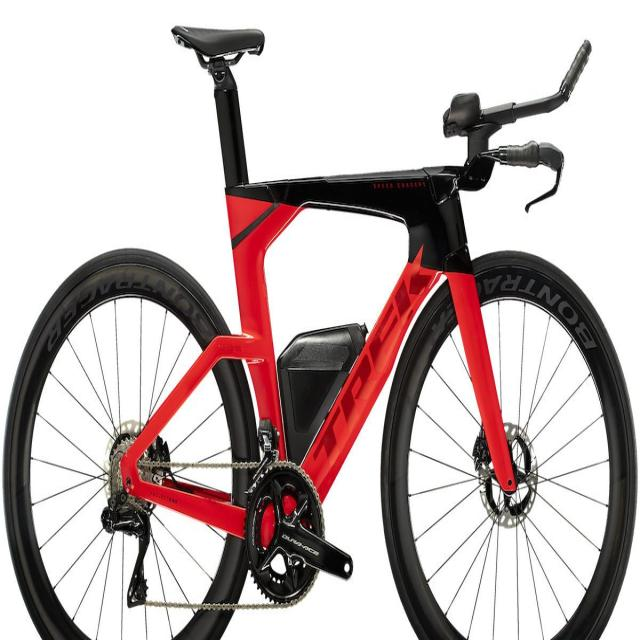TT-bike: (3, 21, 638, 640)
